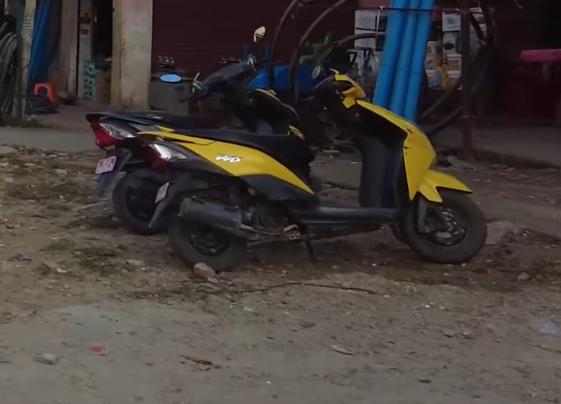scooter: (140, 63, 489, 269)
